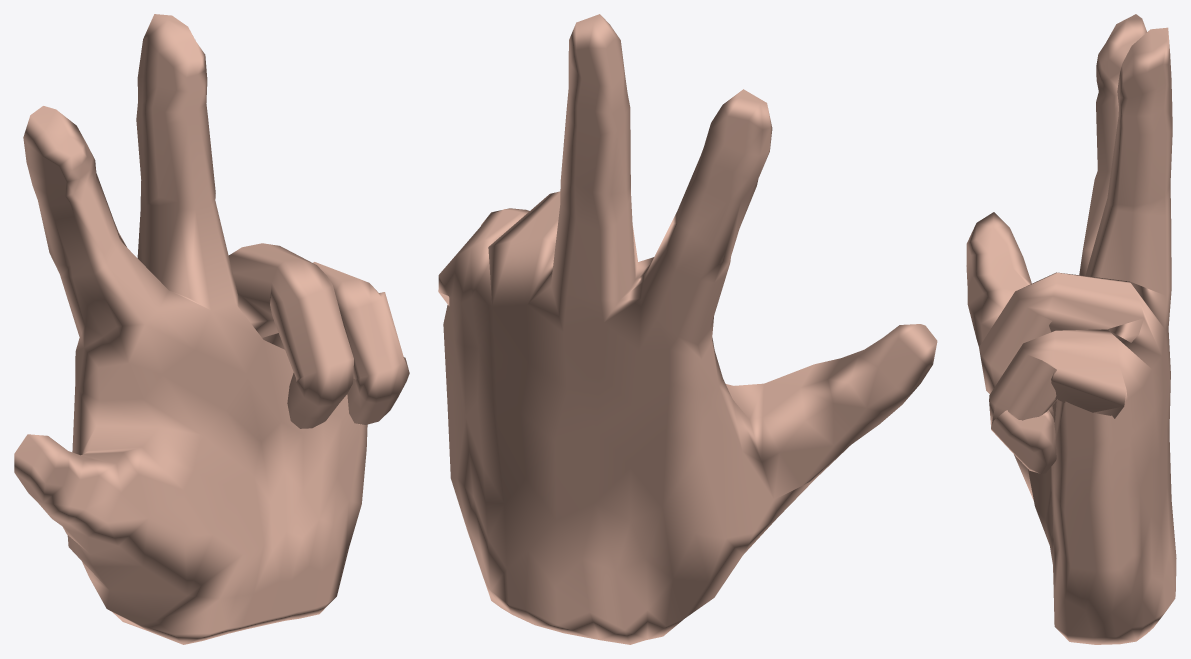
The model's file is MAO_3.obj.
3 views of the same model, side by side, from view 1: azimuth 30°, elevation 25°; view 2: azimuth 150°, elevation 25°; view 3: azimuth 270°, elevation 25° (orthographic). The views are drawn at different scales.
Visible parts, largest first — view 1: mao_dir polySurface1; view 2: mao_dir polySurface1; view 3: mao_dir polySurface1.
Part boxes in pixels (x1,y1,x2,y2): mao_dir polySurface1: (14, 14, 409, 644); mao_dir polySurface1: (438, 14, 937, 644); mao_dir polySurface1: (966, 14, 1176, 644).
Size of the model in its own units: 174 by 243 by 82.05.
